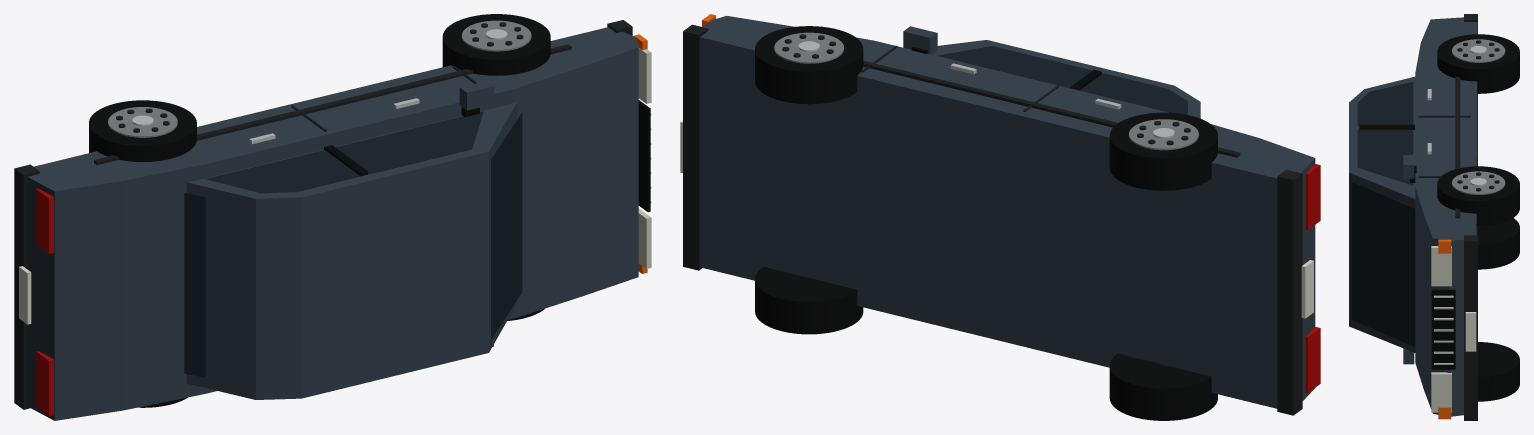
The model's file is car.obj.
3 renders of one model, left to right at view 1: azimuth 30°, elevation 25°; view 2: azimuth 150°, elevation 25°; view 3: azimuth 270°, elevation 25°, orthographic. The views are drawn at different scales.
Parts seen in each view (by area): view 1: Main_body, Cabin, Tire, Windshield, Front_side_window, Rear_windshield, Rear_bumper, Hubcap, Rear_window_lower, Side_trim, Rear_light, Rear_side_window (+4 smaller); view 2: Main_body, Tire, Rear_bumper, Front_bumper, Hubcap, Front_side_window, Rear_light, Cabin, Side_trim, Rear_window_lower, Rear_side_window, Mirror (+1 smaller); view 3: Main_body, Tire, Windshield, Cabin, Front_side_window, Front_bumper, Front_grille, Hubcap, Headlight, Rear_window_lower, Rear_side_window, Side_trim (+9 smaller).
Part boxes in pixels (x1=…): Main_body: x1=27, y1=27, x2=638, y2=420; Cabin: x1=186, y1=102, x2=517, y2=399; Tire: x1=89, y1=14, x2=550, y2=407; Windshield: x1=491, y1=112, x2=522, y2=339; Front_side_window: x1=336, y1=111, x2=483, y2=174; Rear_windshield: x1=184, y1=193, x2=205, y2=377; Rear_bumper: x1=14, y1=164, x2=39, y2=409; Hubcap: x1=108, y1=20, x2=531, y2=137; Rear_window_lower: x1=207, y1=150, x2=360, y2=191; Side_trim: x1=94, y1=44, x2=571, y2=164; Rear_light: x1=36, y1=188, x2=53, y2=416; Rear_side_window: x1=205, y1=176, x2=359, y2=193; Main_body: x1=700, y1=16, x2=1315, y2=408; Tire: x1=755, y1=26, x2=1217, y2=420; Rear_bumper: x1=1277, y1=169, x2=1302, y2=415; Front_bumper: x1=683, y1=24, x2=708, y2=270; Hubcap: x1=774, y1=32, x2=1198, y2=150; Front_side_window: x1=937, y1=46, x2=1092, y2=87; Rear_light: x1=1305, y1=164, x2=1320, y2=392; Cabin: x1=932, y1=40, x2=1200, y2=118; Side_trim: x1=863, y1=60, x2=1240, y2=157; Rear_window_lower: x1=1080, y1=73, x2=1177, y2=111; Rear_side_window: x1=1104, y1=73, x2=1188, y2=114; Mirror: x1=903, y1=26, x2=937, y2=54; Main_body: x1=1415, y1=17, x2=1477, y2=416; Tire: x1=1437, y1=34, x2=1519, y2=401; Windshield: x1=1351, y1=182, x2=1414, y2=346; Cabin: x1=1349, y1=76, x2=1415, y2=352; Front_side_window: x1=1357, y1=129, x2=1413, y2=185; Front_bumper: x1=1464, y1=235, x2=1477, y2=420; Front_grille: x1=1431, y1=289, x2=1455, y2=369; Hubcap: x1=1452, y1=39, x2=1505, y2=194; Headlight: x1=1431, y1=246, x2=1451, y2=412; Rear_window_lower: x1=1357, y1=82, x2=1413, y2=126; Rear_side_window: x1=1357, y1=82, x2=1412, y2=125; Side_trim: x1=1455, y1=76, x2=1460, y2=218.
Bounding box in the file's own units: 5 × 2.08 × 1.57.
